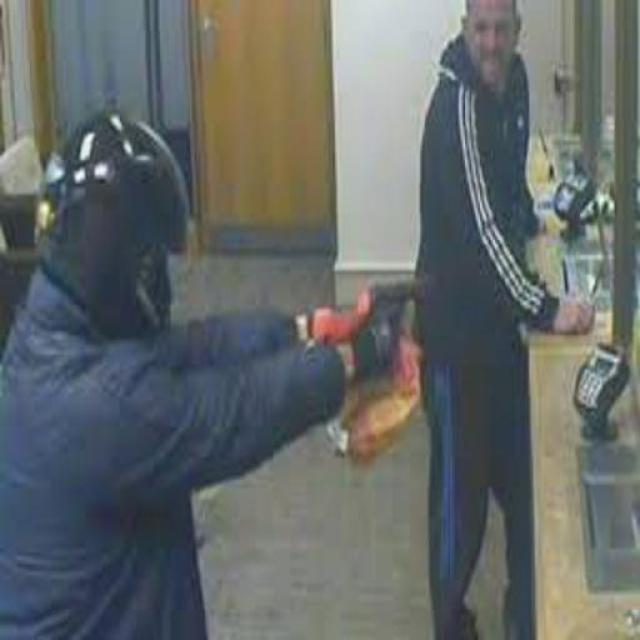pistol: (356, 262, 450, 411)
